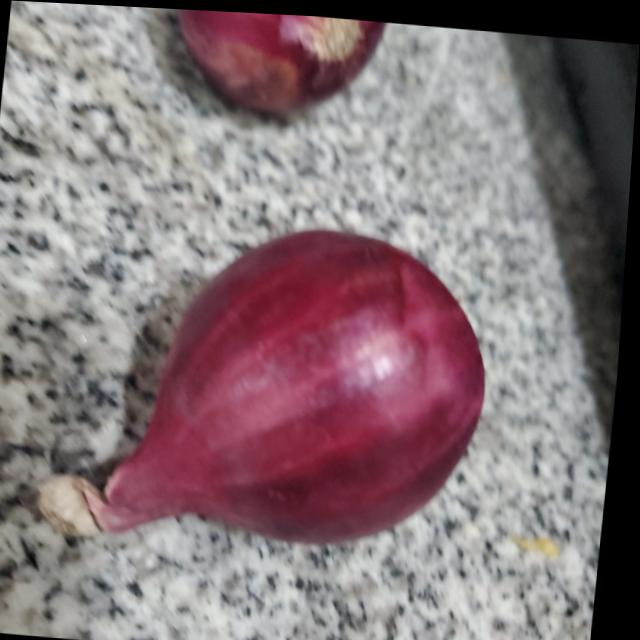onion: (70, 209, 510, 578), (170, 7, 385, 116)
